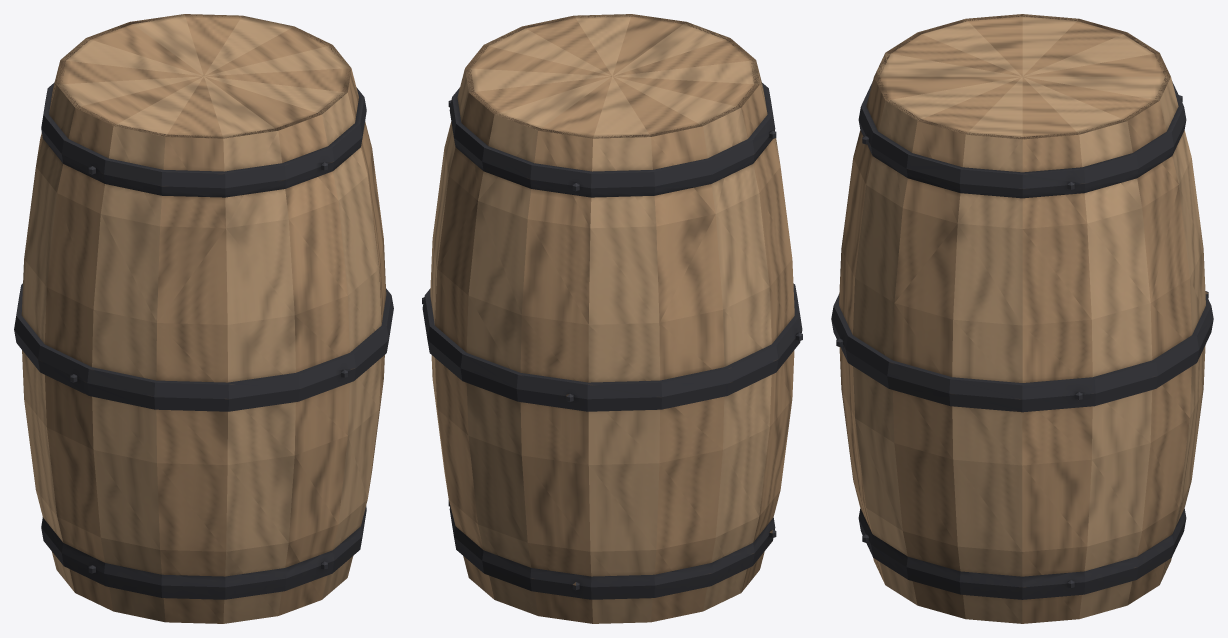
The model's file is barrel_tex.glb.
3 renders of one model, left to right at view 1: azimuth 30°, elevation 25°; view 2: azimuth 150°, elevation 25°; view 3: azimuth 270°, elevation 25°, orthographic.
Parts seen in each view (by area): view 1: barrel; view 2: barrel; view 3: barrel.
Boxes of the visible parts, bbox=[...] form: barrel: bbox=[14, 14, 393, 623]; barrel: bbox=[422, 14, 802, 623]; barrel: bbox=[831, 14, 1213, 623].
Size of the model in its own units: 0.644 by 0.9 by 0.644.
Materials: 5 (5 with a texture image).
